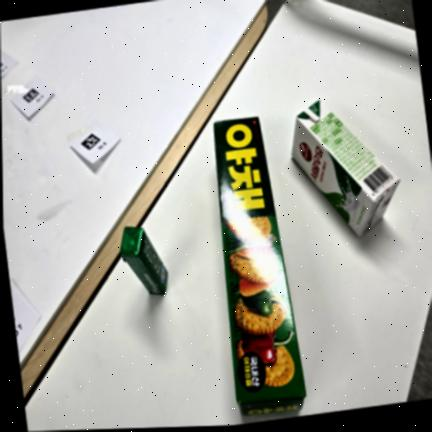cracker_vege: (214, 117, 306, 423)
gum_green: (120, 227, 167, 294)
milk_green: (292, 100, 400, 236)
